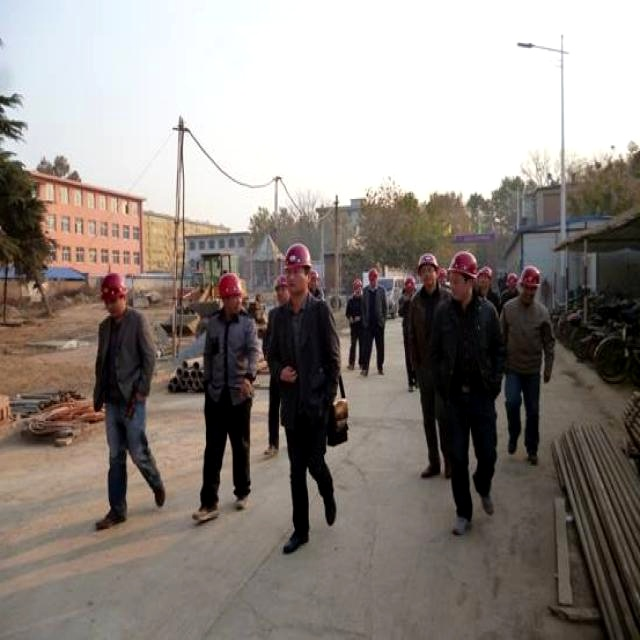Con_Casco: (283, 242, 313, 294), (216, 271, 241, 314), (101, 271, 126, 313)
